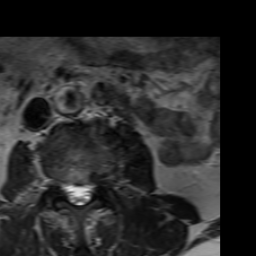CCS_normal: (74, 173, 83, 213)
LFS_severe_stenosis: (93, 169, 104, 194)
LLS_normal: (83, 174, 93, 206)
RFS_stenosis: (54, 169, 64, 193)
RLS_normal: (64, 174, 74, 207)
